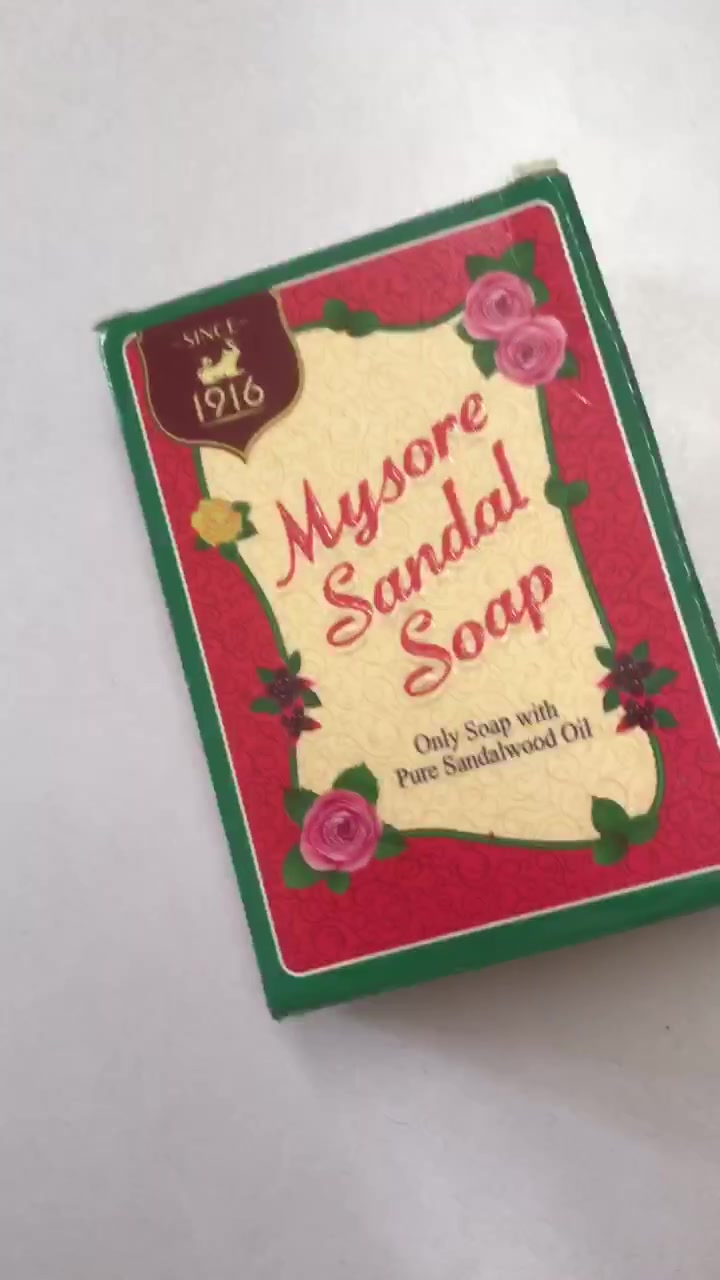mysore sandal soap: (88, 175, 714, 1014)
